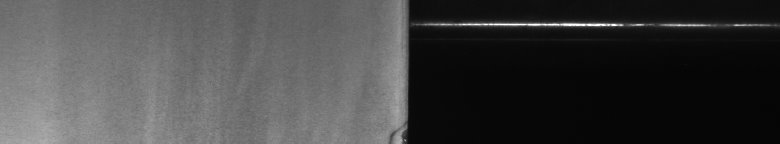hb: (384, 124, 396, 136)
